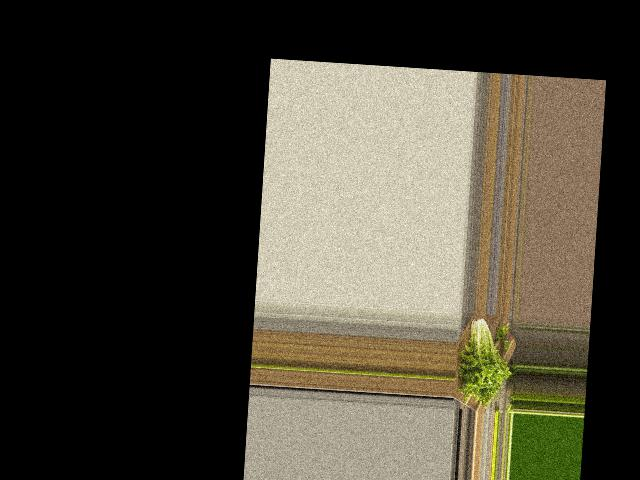lettuce: (456, 312, 513, 404)
